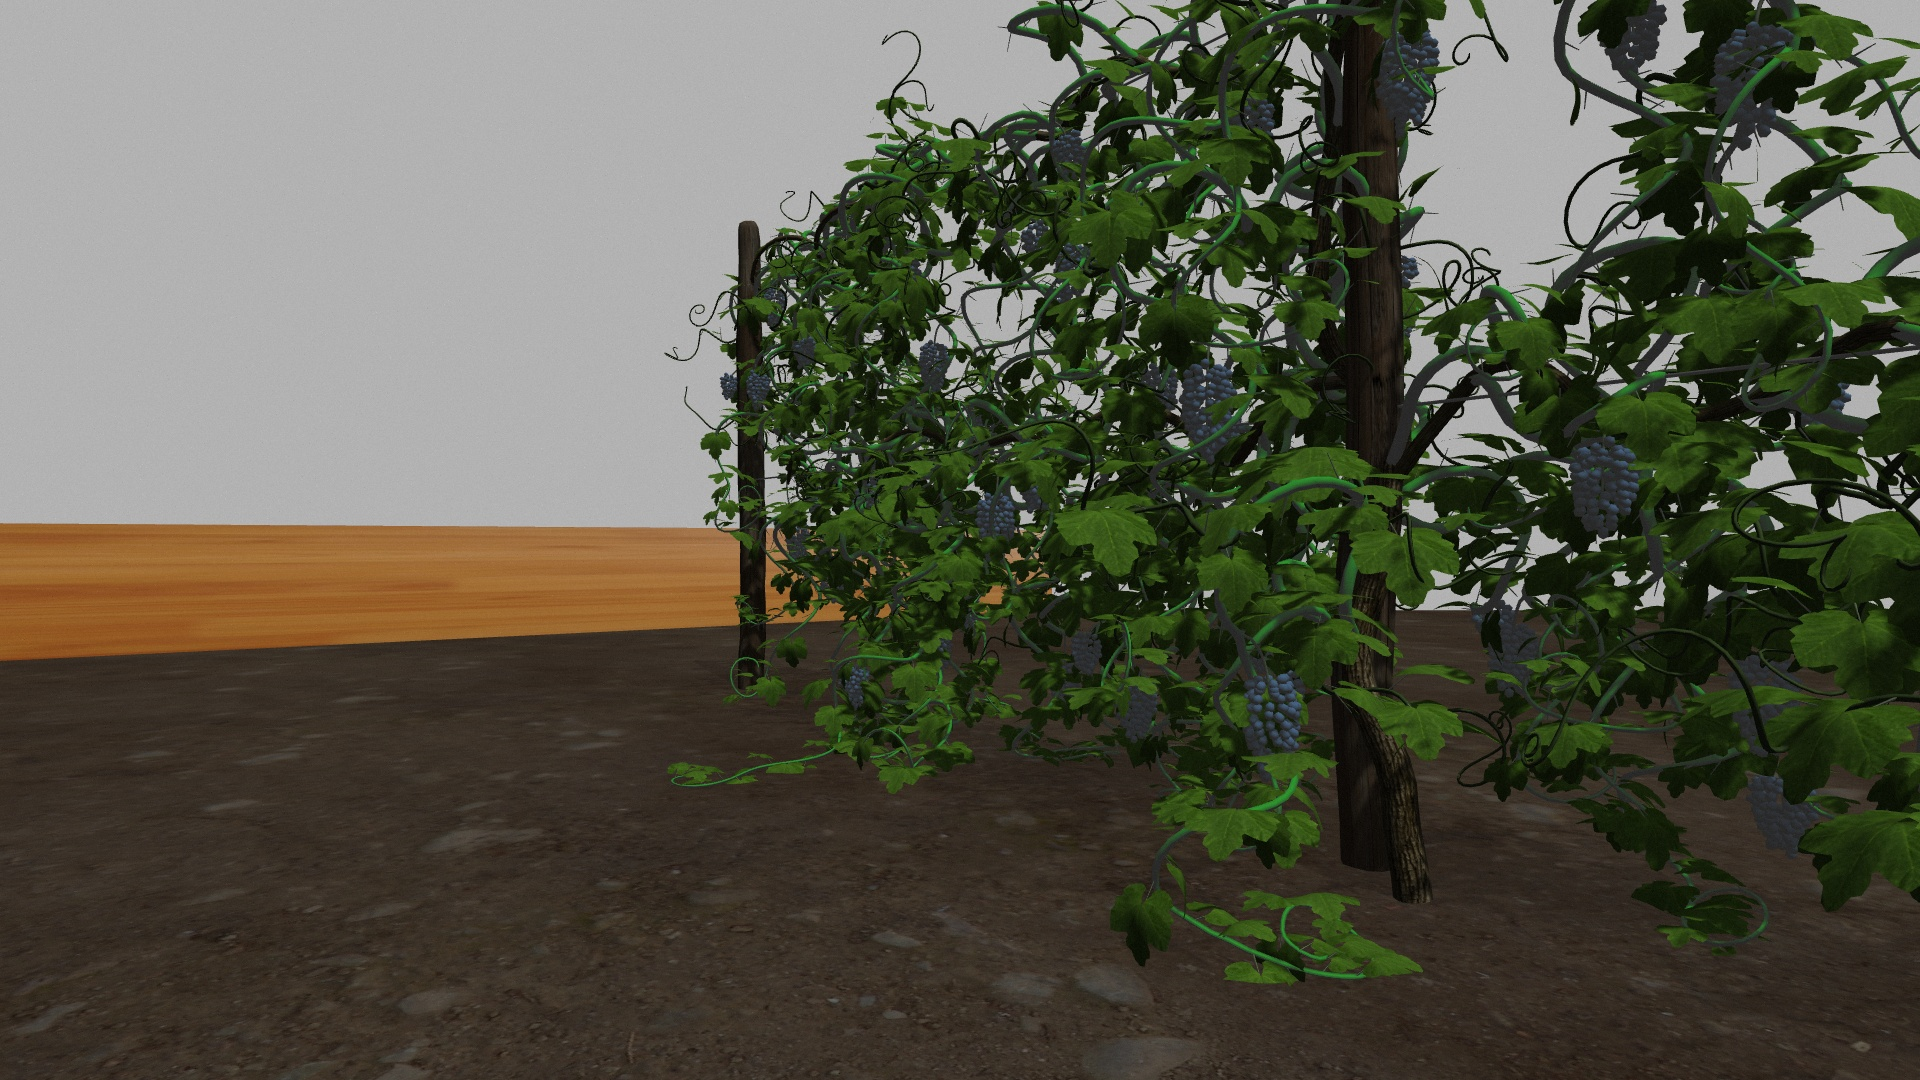grape: (1712, 18, 1791, 153), (1567, 436, 1642, 538), (1746, 769, 1821, 858), (1377, 32, 1439, 133), (1179, 359, 1237, 463), (1600, 4, 1667, 76), (1245, 671, 1303, 748), (1482, 626, 1542, 698), (1116, 683, 1158, 742), (975, 489, 1015, 545), (916, 339, 953, 396), (1055, 128, 1087, 179), (1069, 628, 1102, 675), (841, 666, 869, 712), (745, 369, 771, 411), (762, 286, 787, 327), (1245, 98, 1275, 131), (1021, 219, 1050, 253), (785, 527, 811, 560), (793, 334, 818, 368), (719, 371, 738, 400)
